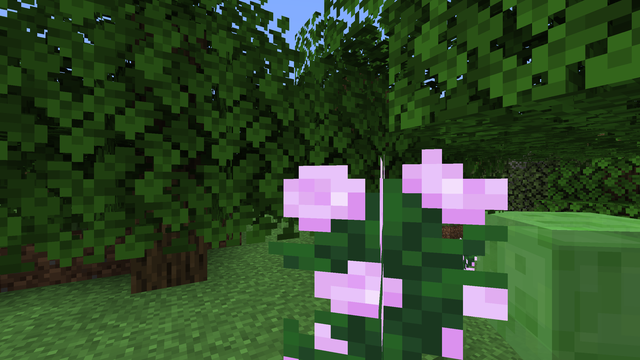slimes: (470, 205, 634, 357)
